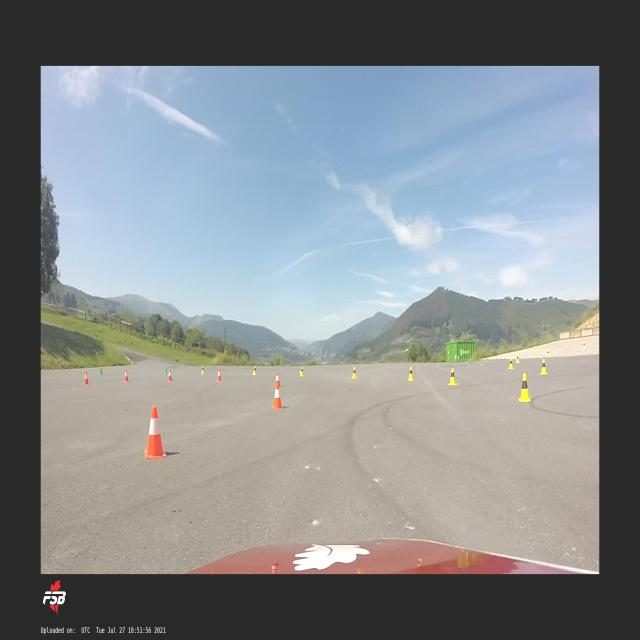orange_cone: (144, 406, 166, 460), (272, 382, 284, 410), (275, 372, 281, 388), (84, 370, 90, 386), (217, 369, 222, 381), (168, 369, 172, 381), (125, 369, 128, 382)
unknown_cone: (100, 367, 103, 375), (164, 366, 166, 374)
yellow_cone: (518, 374, 532, 402), (448, 367, 458, 385), (540, 358, 548, 375), (408, 366, 414, 381), (352, 366, 358, 378), (508, 358, 514, 370), (300, 366, 304, 376), (253, 365, 257, 375), (201, 364, 205, 374), (516, 355, 520, 363), (546, 349, 550, 357), (582, 342, 586, 348)
